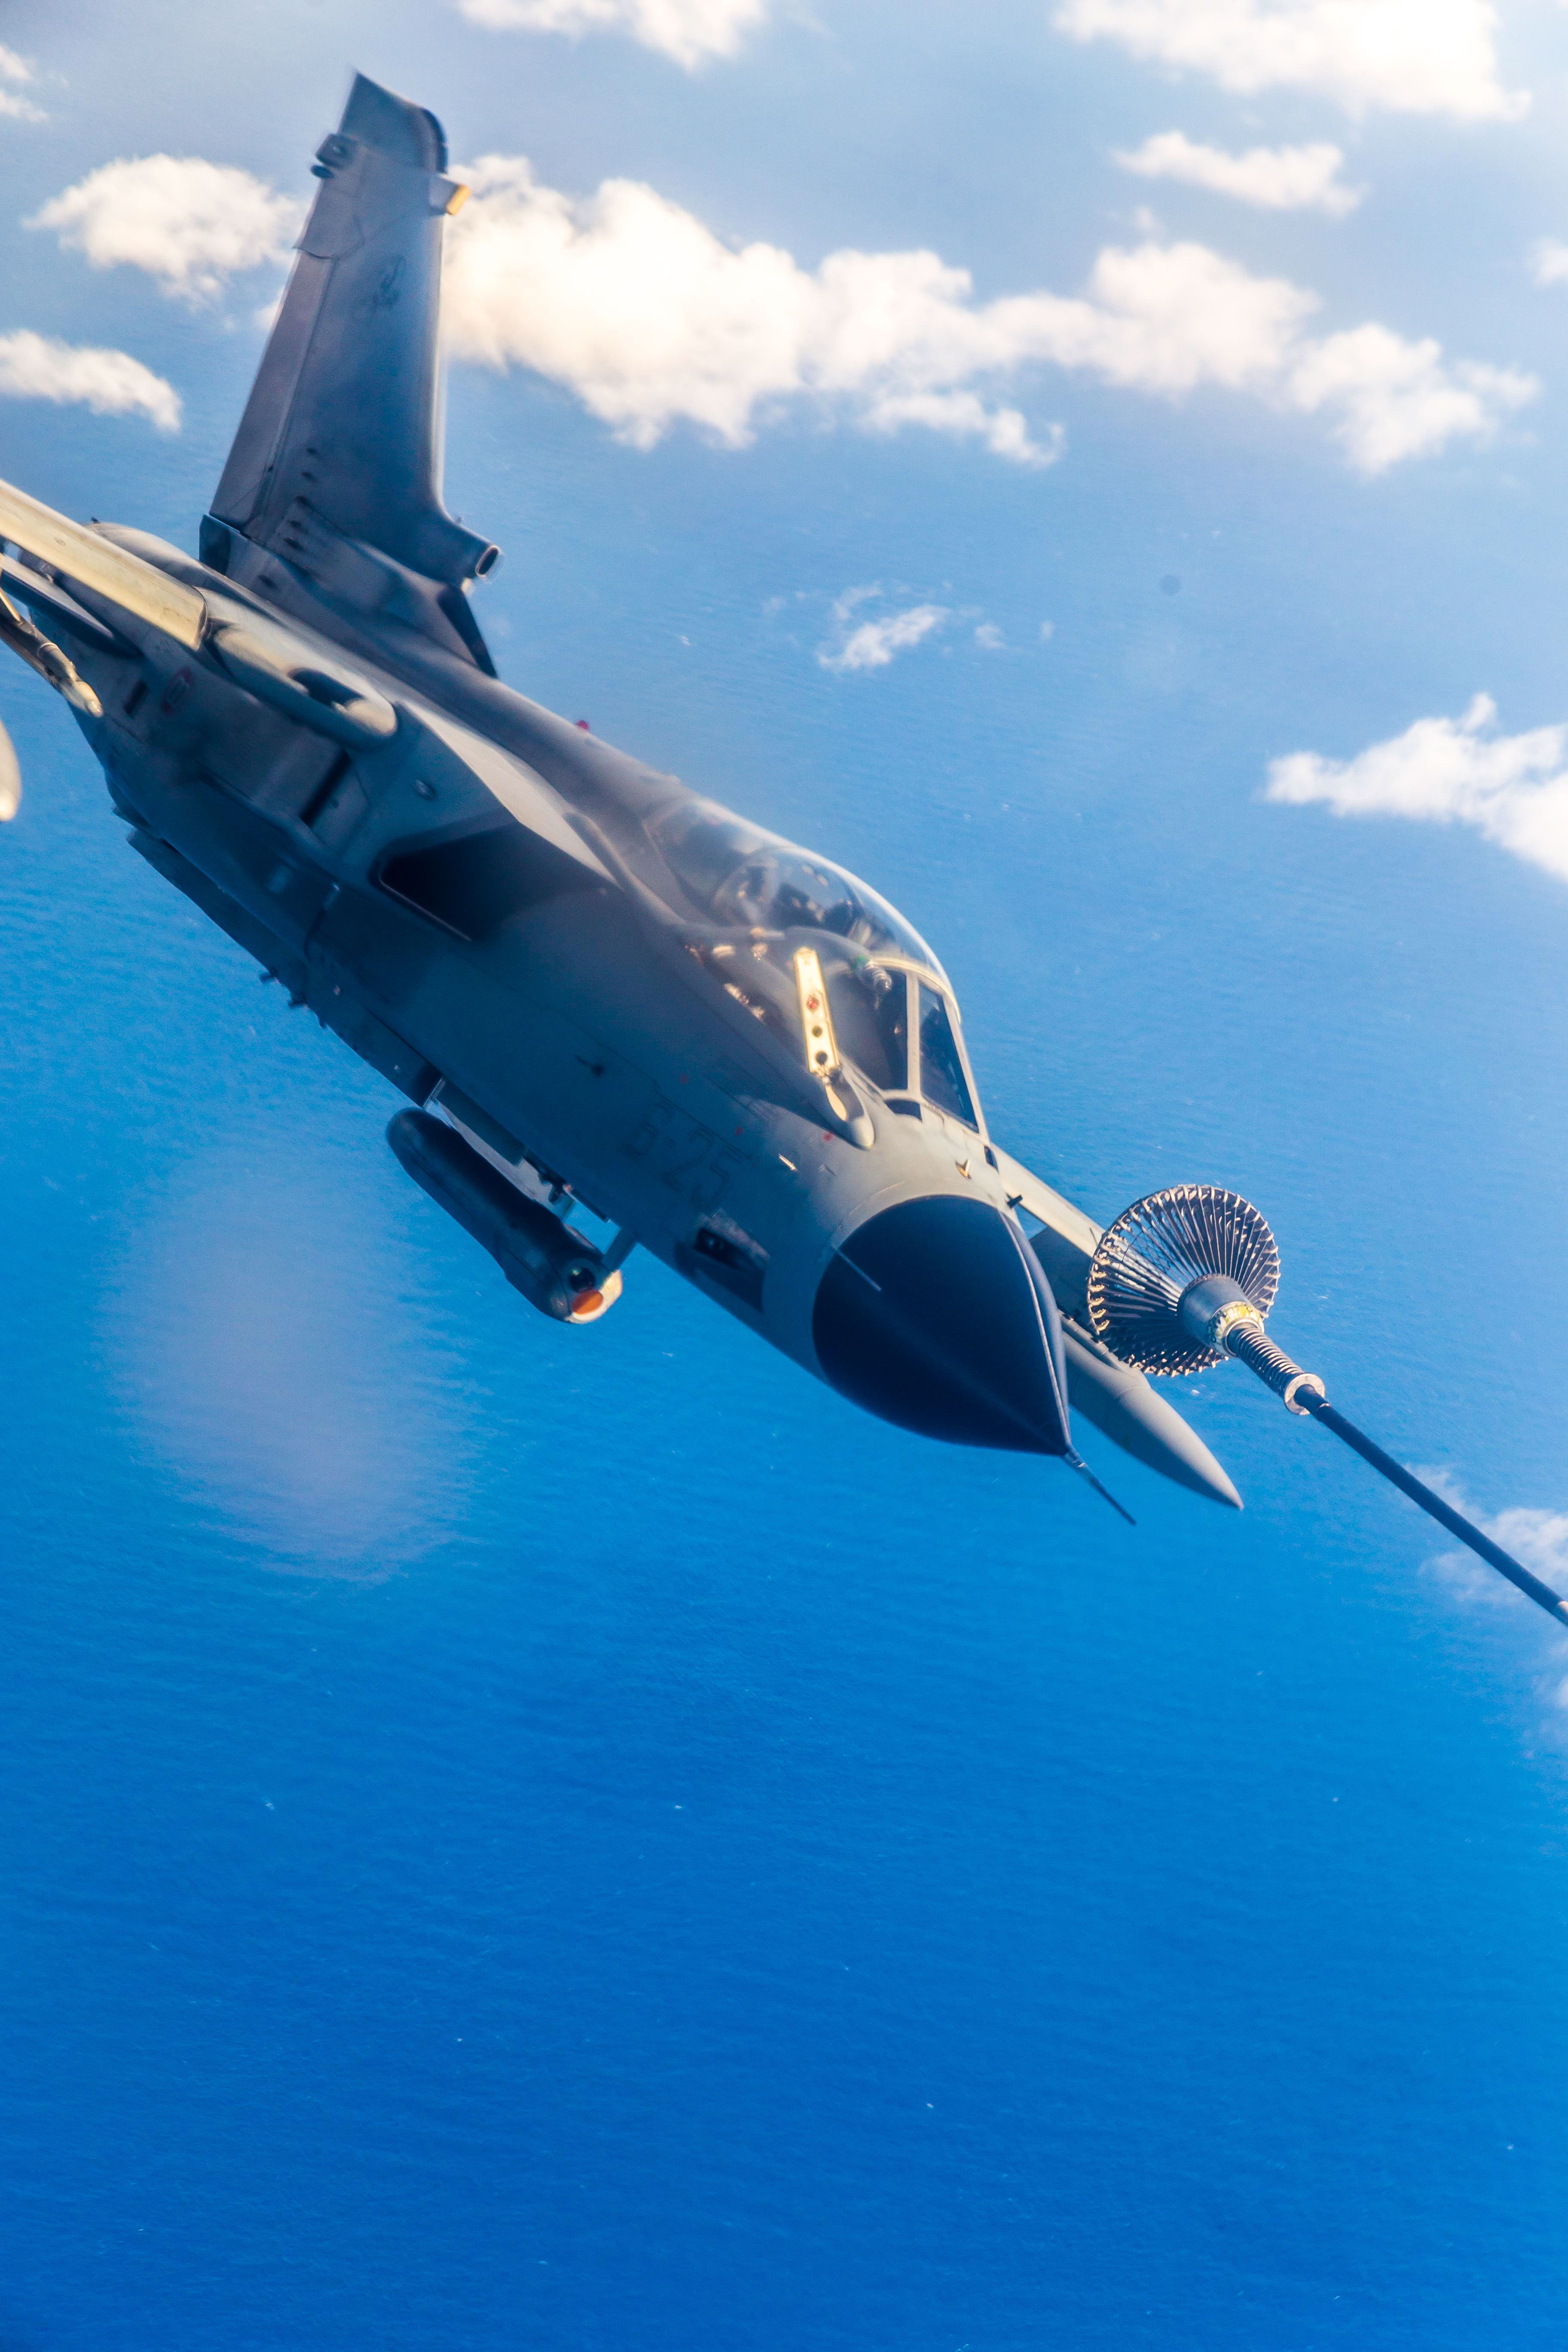Tornado: (0, 70, 1244, 1526)
